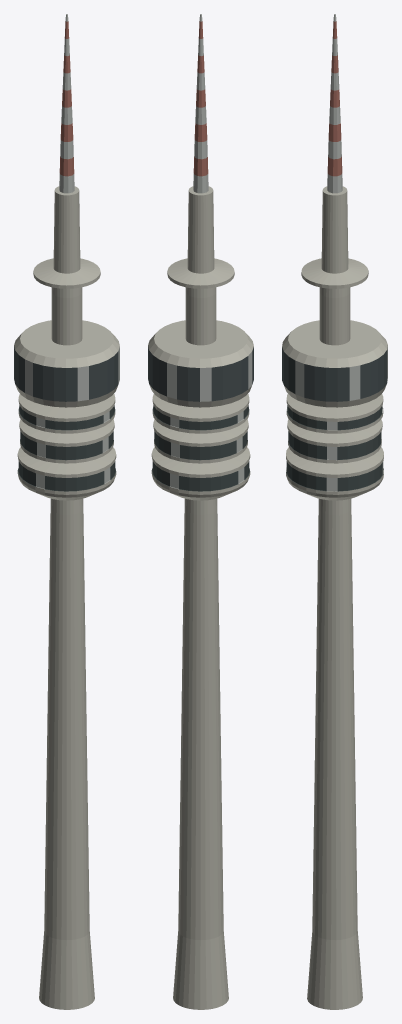
Rendered from olympiaturm-munich-far.glb.
3 views of the same model, side by side, from view 1: azimuth 30°, elevation 25°; view 2: azimuth 210°, elevation 25°; view 3: azimuth 330°, elevation 25° (orthographic).
Parts seen in each view (by area): view 1: olympiaturm-munich-0-stone, olympiaturm-munich-0-grille, olympiaturm-munich-0-glass, olympiaturm-munich-0-metal, olympiaturm-munich-0-beacon; view 2: olympiaturm-munich-0-stone, olympiaturm-munich-0-grille, olympiaturm-munich-0-glass, olympiaturm-munich-0-metal, olympiaturm-munich-0-beacon; view 3: olympiaturm-munich-0-stone, olympiaturm-munich-0-grille, olympiaturm-munich-0-glass, olympiaturm-munich-0-metal, olympiaturm-munich-0-beacon.
Part boxes in pixels (<box>): olympiaturm-munich-0-stone: <box>14,186,119,1009</box>; olympiaturm-munich-0-grille: <box>17,405,115,491</box>; olympiaturm-munich-0-glass: <box>14,346,118,401</box>; olympiaturm-munich-0-metal: <box>25,14,119,489</box>; olympiaturm-munich-0-beacon: <box>59,21,74,176</box>; olympiaturm-munich-0-stone: <box>148,186,253,1009</box>; olympiaturm-munich-0-grille: <box>151,405,249,491</box>; olympiaturm-munich-0-glass: <box>148,346,253,401</box>; olympiaturm-munich-0-metal: <box>167,14,252,489</box>; olympiaturm-munich-0-beacon: <box>193,21,208,176</box>; olympiaturm-munich-0-stone: <box>282,186,387,1009</box>; olympiaturm-munich-0-grille: <box>286,405,383,491</box>; olympiaturm-munich-0-glass: <box>282,347,387,401</box>; olympiaturm-munich-0-metal: <box>286,14,387,491</box>; olympiaturm-munich-0-beacon: <box>327,21,342,176</box>.
Bounding box in the file's own units: 28.27 × 291 × 28.27.
